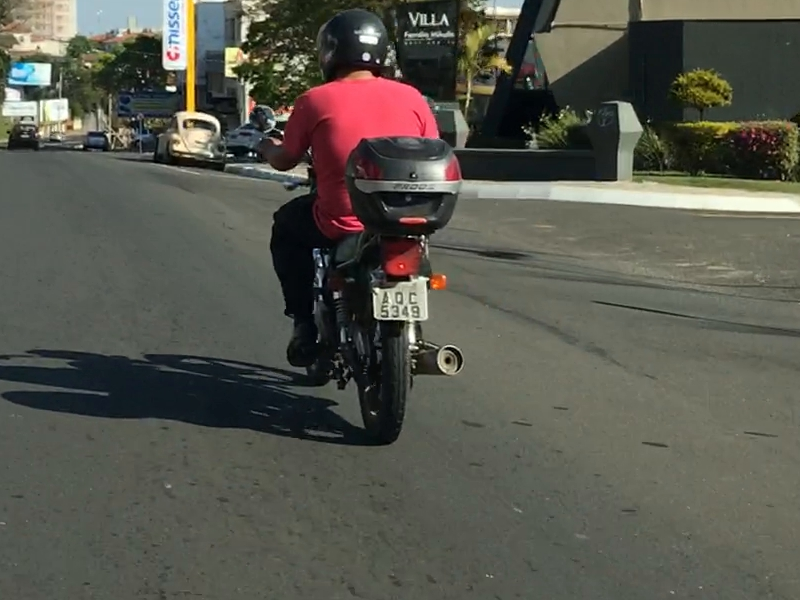placa: (374, 281, 427, 320)
